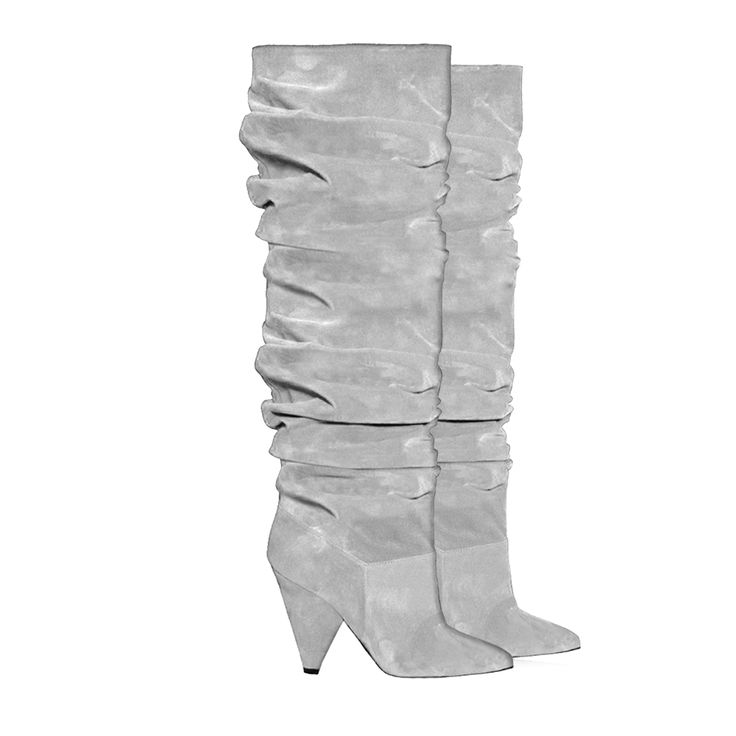gamuza: (240, 42, 581, 678)
